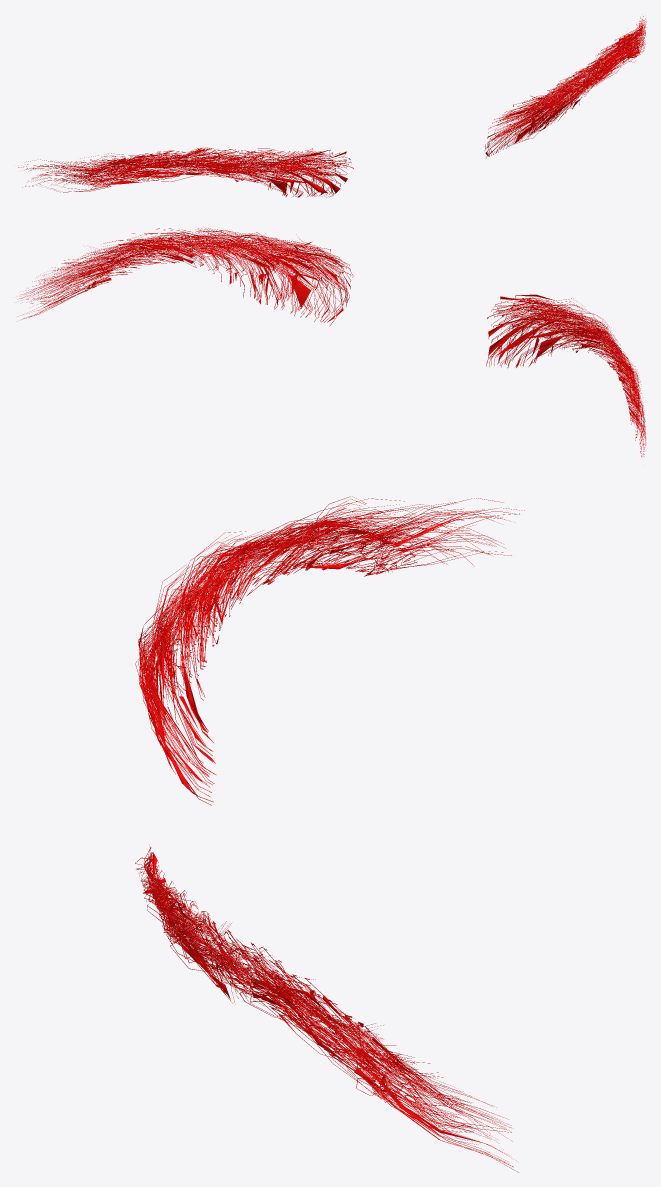
Rendered from mindfront_eyebrows_05_F.glb.
3 views of the same model, one above another, from view 1: azimuth 30°, elevation 25°; view 2: azimuth 150°, elevation 25°; view 3: azimuth 270°, elevation 25° (orthographic). The views are drawn at different scales.
Bounding box in the file's own units: 0.1333 × 0.0158 × 0.036.
Materials: 1 (1 with a texture image).
